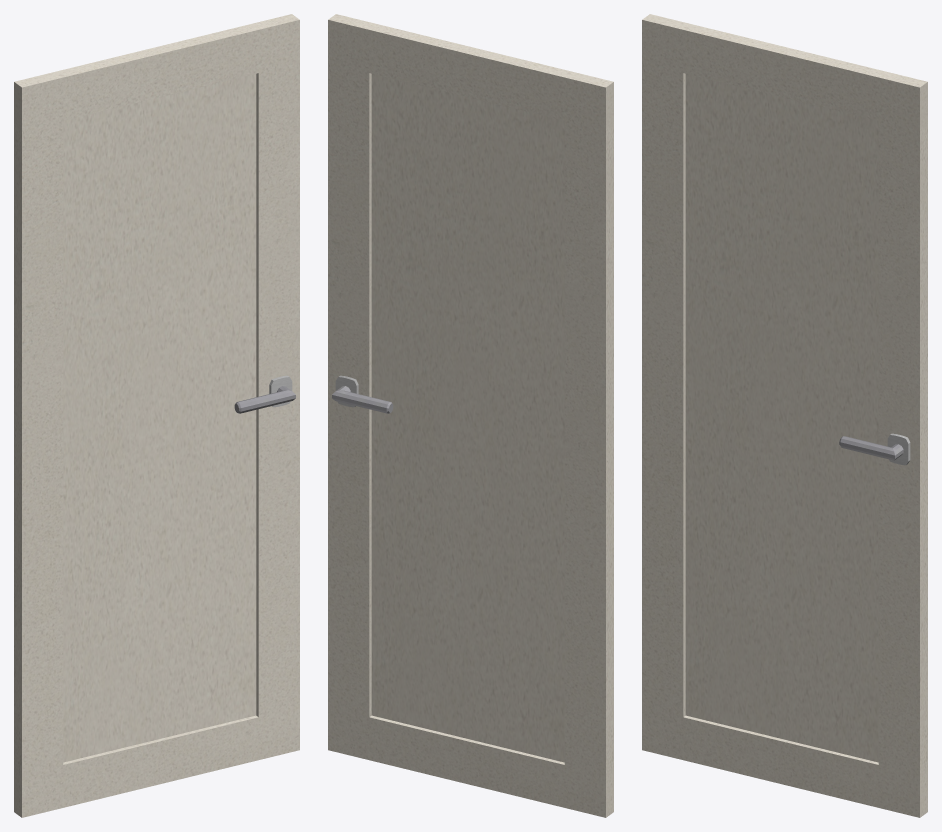
Rendered from Door_enter.fbx.
The picture shows the model from 3 angles, left to right: view 1: azimuth 30°, elevation 25°; view 2: azimuth 150°, elevation 25°; view 3: azimuth 330°, elevation 25°; orthographic projection.
Parts seen in each view (by area): view 1: porte_basique.001, porte_basique, Cylinder; view 2: porte_basique.001, porte_basique, Cylinder; view 3: porte_basique.001, porte_basique, Cylinder.
Part boxes in pixels (x1,y1,x2,y2): porte_basique.001: (63, 74, 256, 762); porte_basique: (14, 14, 299, 817); Cylinder: (234, 386, 295, 413); porte_basique.001: (371, 74, 564, 762); porte_basique: (328, 14, 613, 817); Cylinder: (332, 386, 393, 413); porte_basique.001: (685, 74, 878, 762); porte_basique: (642, 14, 927, 817); Cylinder: (839, 436, 903, 460).
Bounding box in the file's own units: 80.95 × 203 × 14.55.
